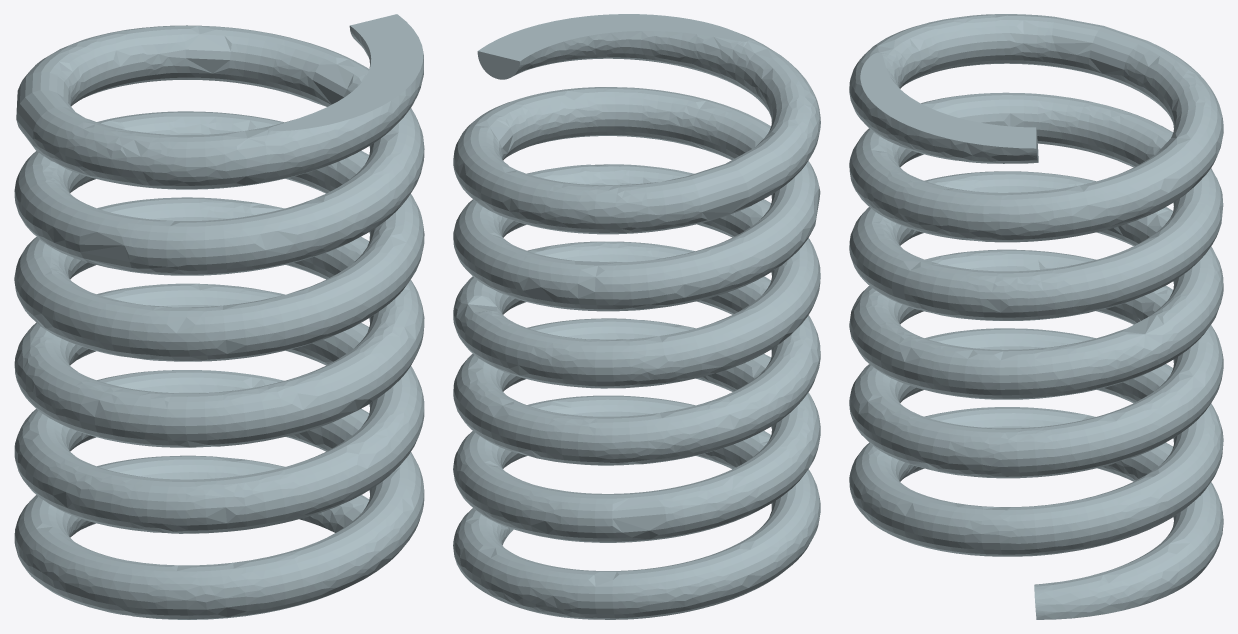
File: intake-spring.glb
The picture shows the model from 3 angles, left to right: view 1: azimuth 30°, elevation 25°; view 2: azimuth 150°, elevation 25°; view 3: azimuth 270°, elevation 25°; orthographic projection. The views are drawn at different scales.
Visible parts, largest first — view 1: world; view 2: world; view 3: world.
Boxes of the visible parts, x1,y1,x2,y2 form: world: (14,14,424,619); world: (453,14,820,619); world: (849,14,1223,619).
Size of the model in its own units: 0.03 by 0.0417 by 0.03.
